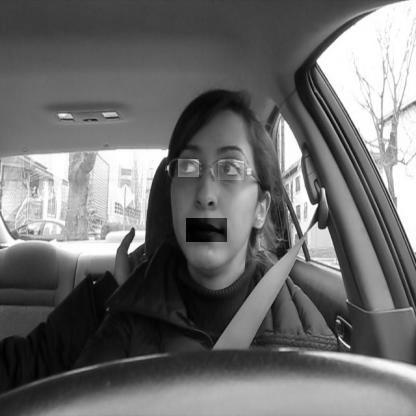seatbelt: (132, 71, 296, 416)
